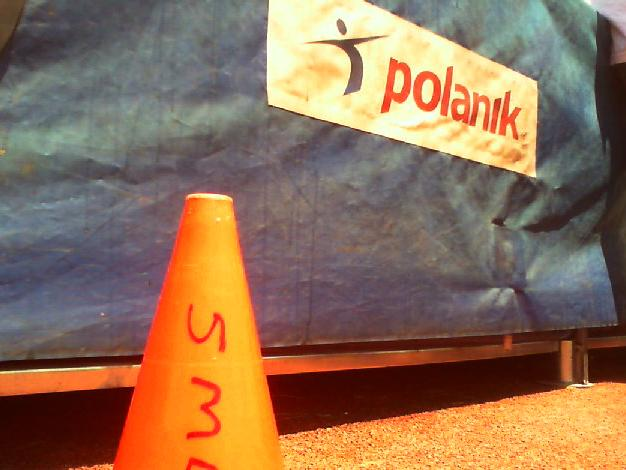0 cone: (109, 192, 285, 470)
